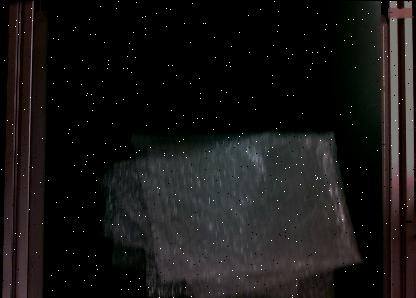Others: (98, 127, 366, 297)
